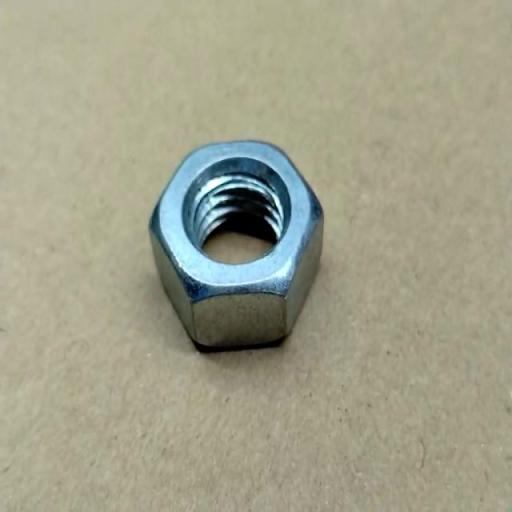Nut: (148, 139, 325, 352)
